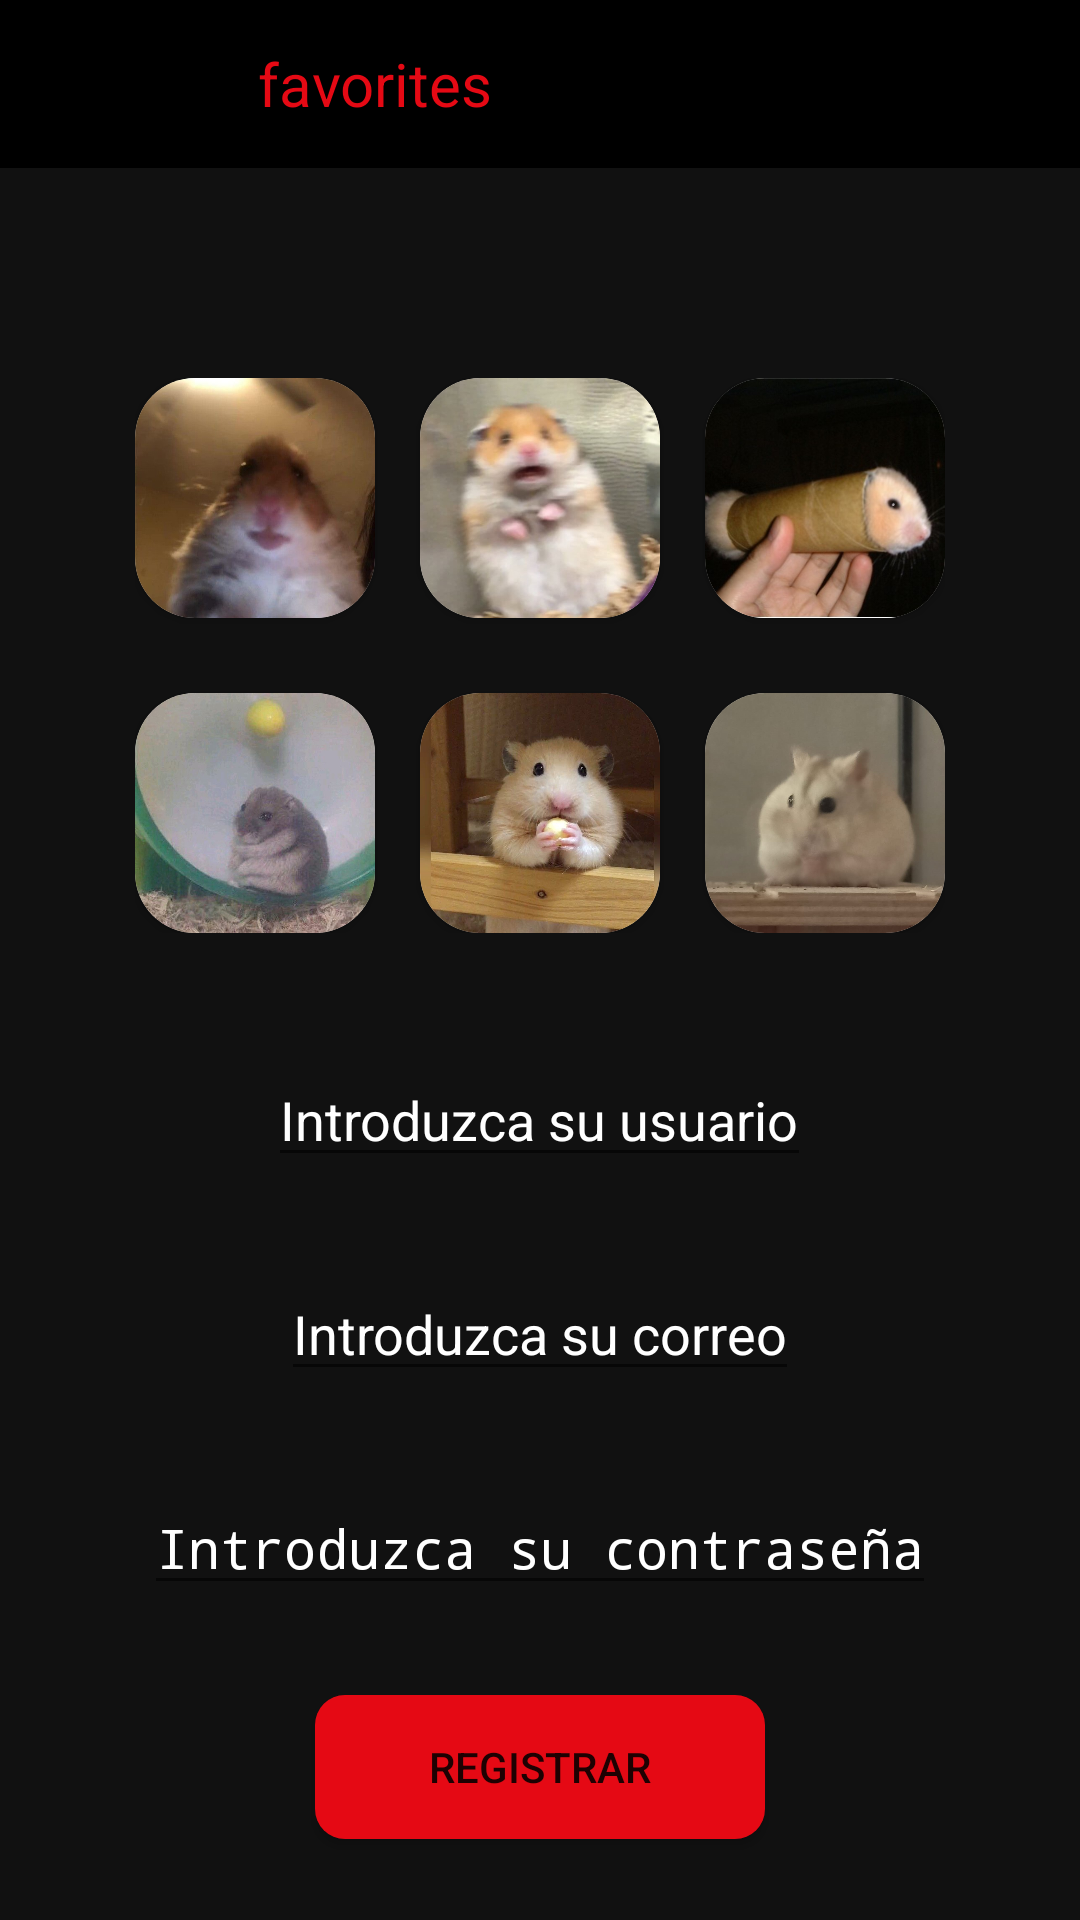

Screen size 1080px×1920px. Icon name, then its box in pixels as (x1, y1, x2, y2):
fotoperfil: (135, 378, 375, 618), (420, 378, 660, 618), (705, 378, 945, 618), (135, 693, 375, 933), (420, 693, 660, 933), (705, 693, 945, 933)
